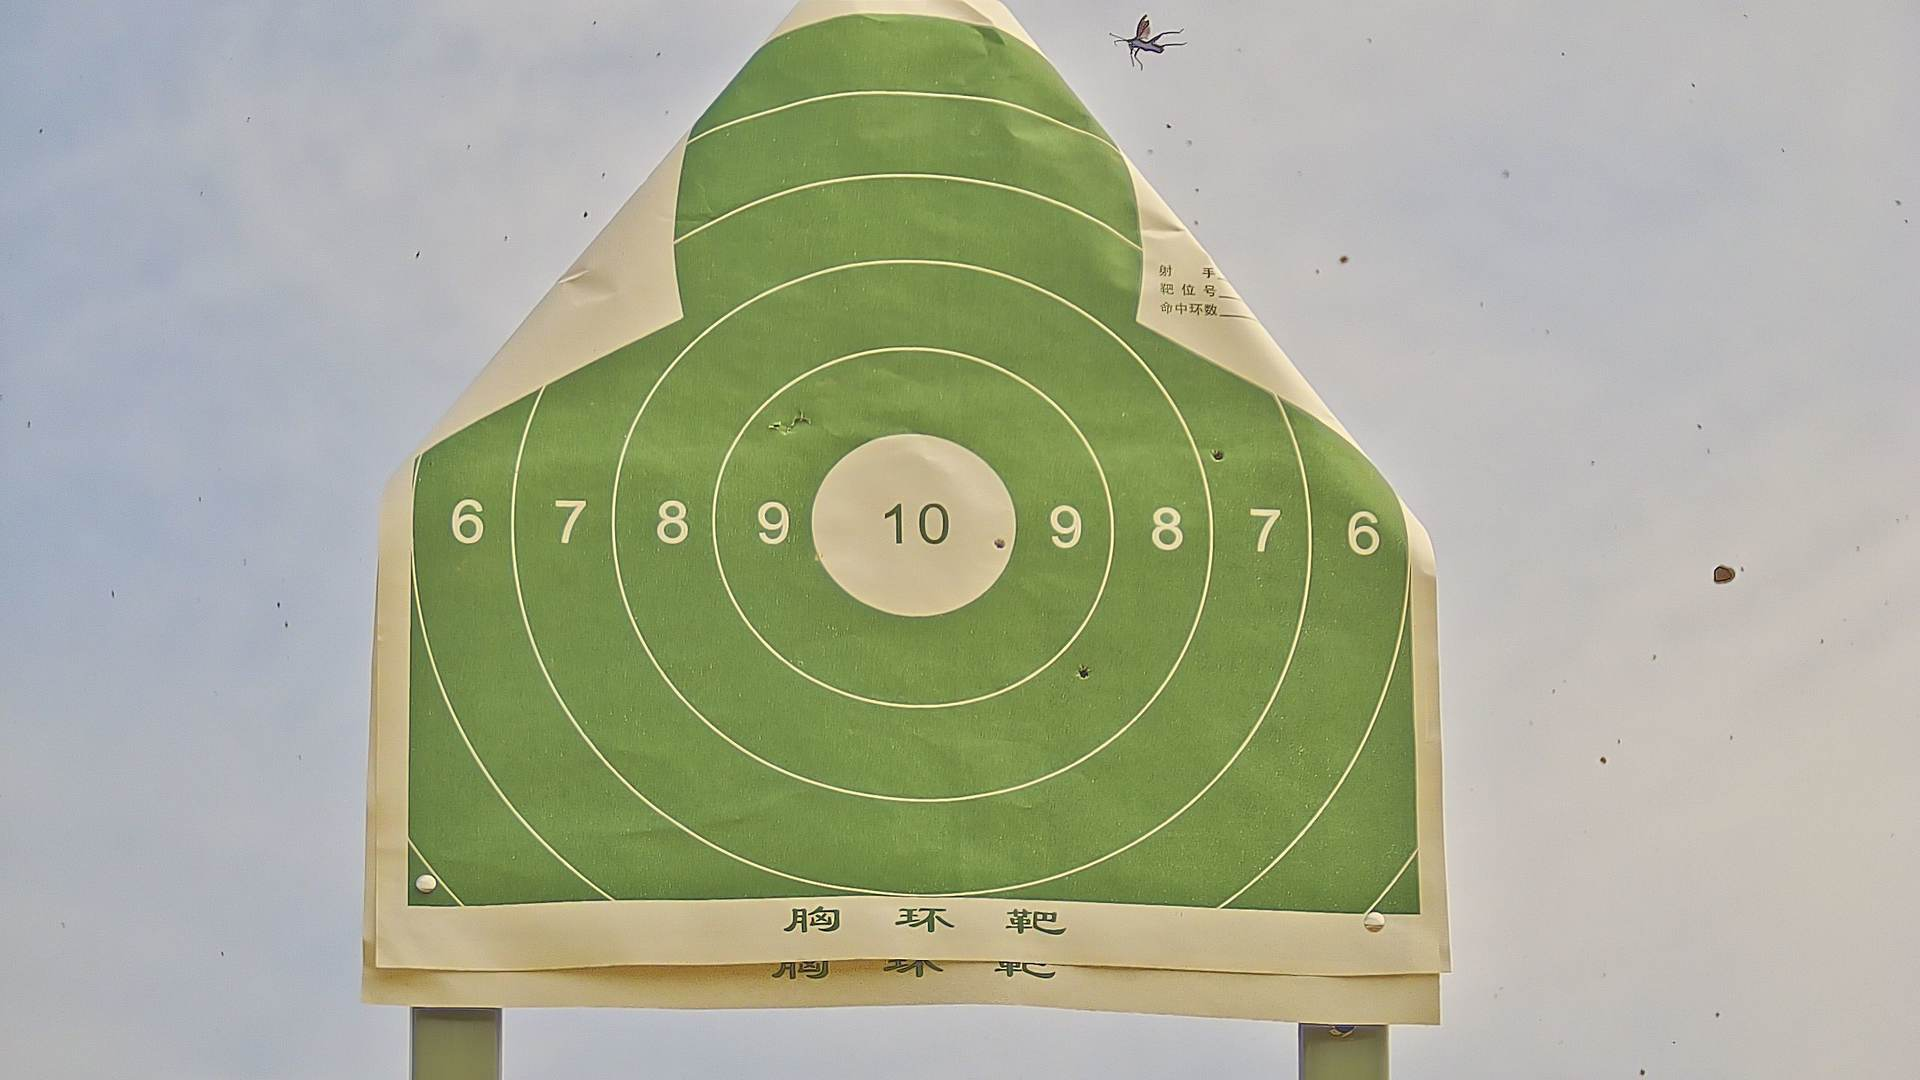hole: (1211, 444, 1226, 464), (1075, 665, 1092, 682), (994, 534, 1007, 551)
kernel: (909, 522, 916, 530)
target: (411, 15, 1423, 913)
ten: (808, 431, 1017, 620)
